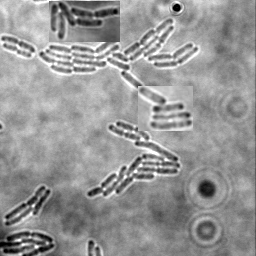Dividing: (1, 34, 37, 52), (3, 41, 33, 57)
Microcolony: (40, 18, 199, 89), (87, 120, 181, 197), (49, 1, 120, 42), (138, 86, 193, 131), (5, 184, 52, 226), (1, 230, 56, 255)
